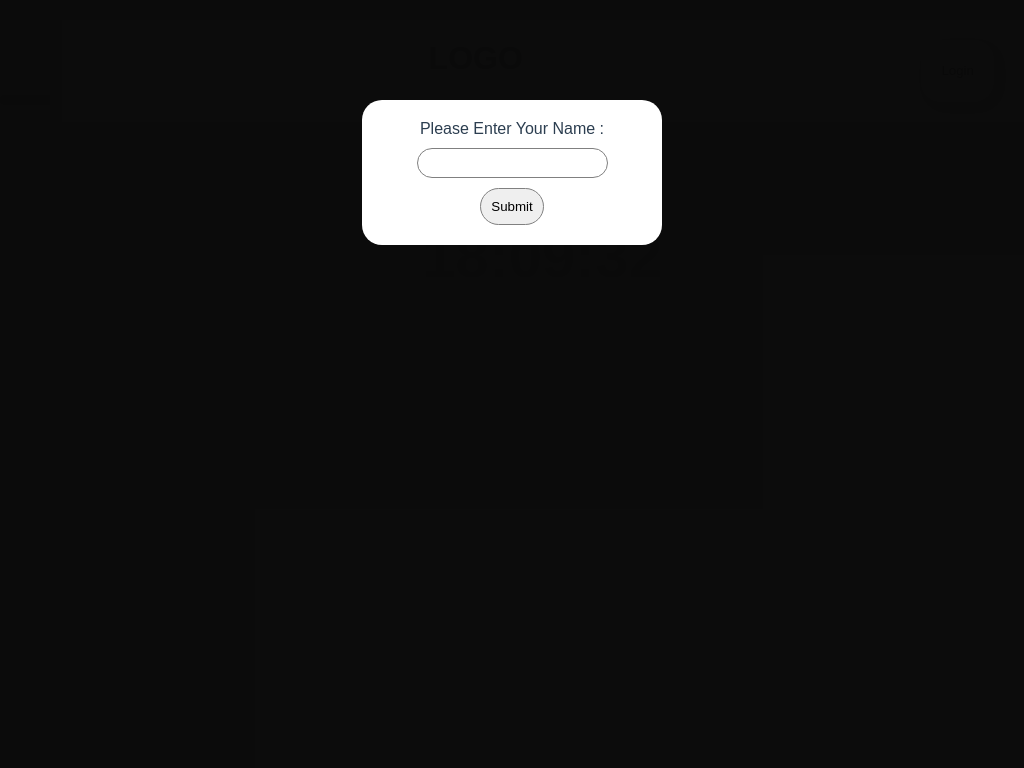
template spec › greeting in dashboard is set
Type "example name" into the field with test id "popup-input". click: (513, 163)
box: [417,148,608,178]
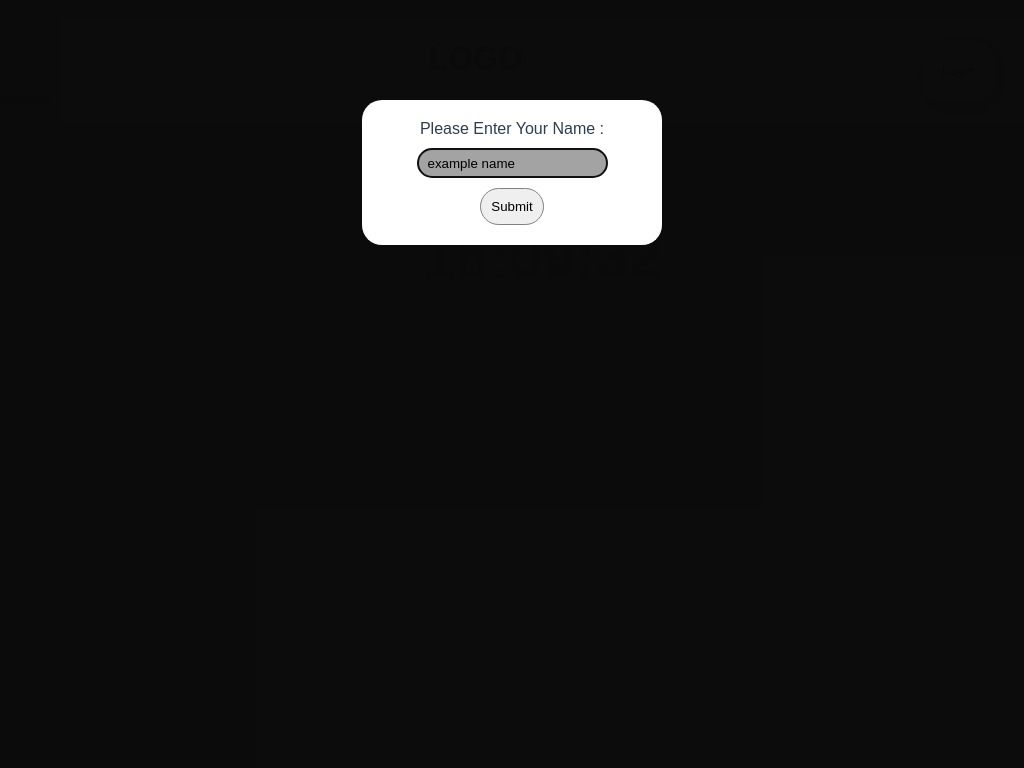
Submit the form with test id "popup-form", box [362,100,662,245]
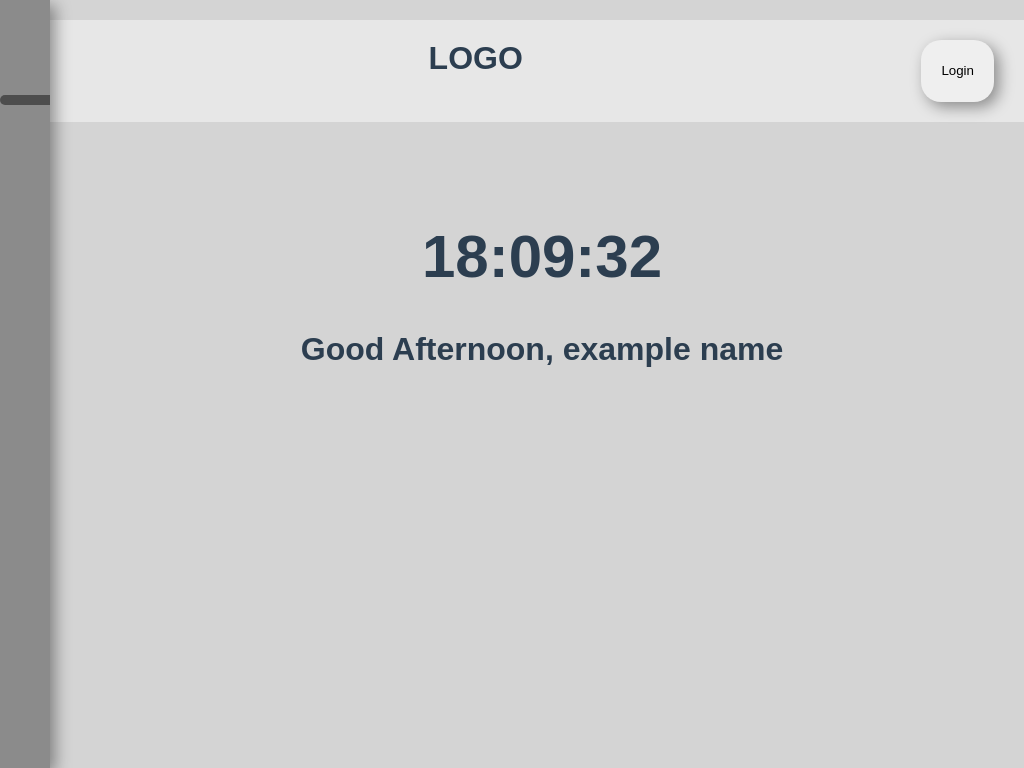
Now the heading "Good Afternoon, example name" is shown, box [301,331,783,368]
